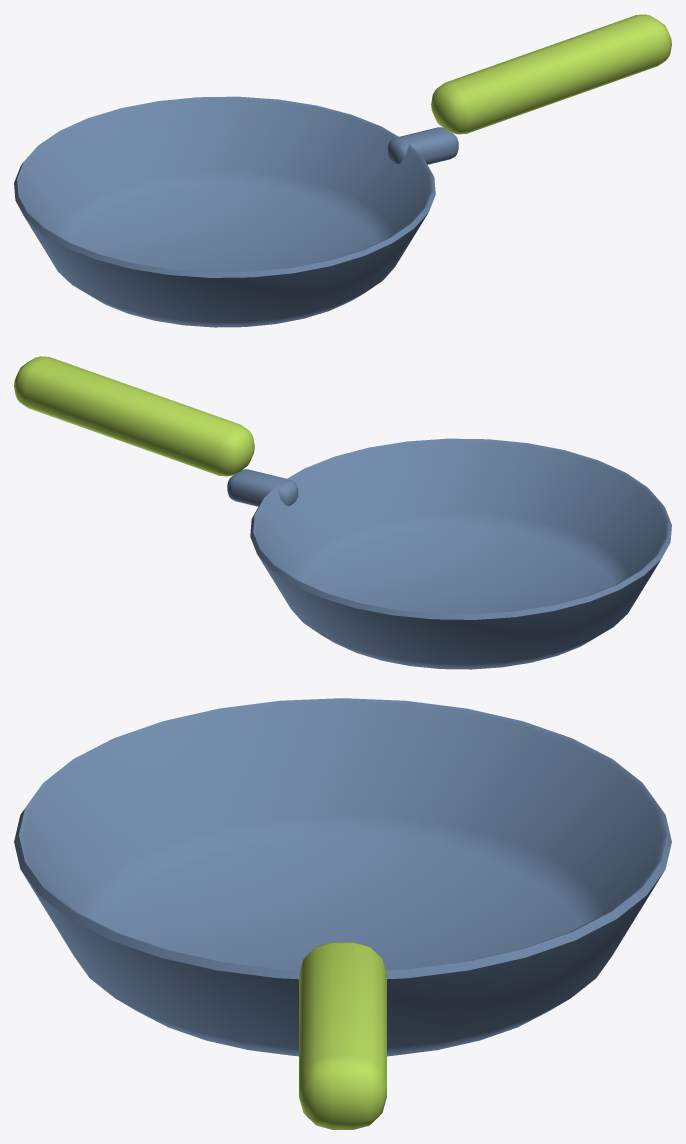
Rendered from frigideira_azul.glb.
The picture shows the model from 3 angles, top to bottom: view 1: azimuth 30°, elevation 25°; view 2: azimuth 150°, elevation 25°; view 3: azimuth 270°, elevation 25°; orthographic projection. The views are drawn at different scales.
Parts seen in each view (by area): view 1: frigideira_azul; view 2: frigideira_azul; view 3: frigideira_azul.
Boxes of the visible parts, x1,y1,x2,y2 form: frigideira_azul: (14,14,671,327); frigideira_azul: (14,356,671,669); frigideira_azul: (14,698,671,1129).
Size of the model in its own units: 0.409 by 0.0873 by 0.24.
1 material, 1 textured.
